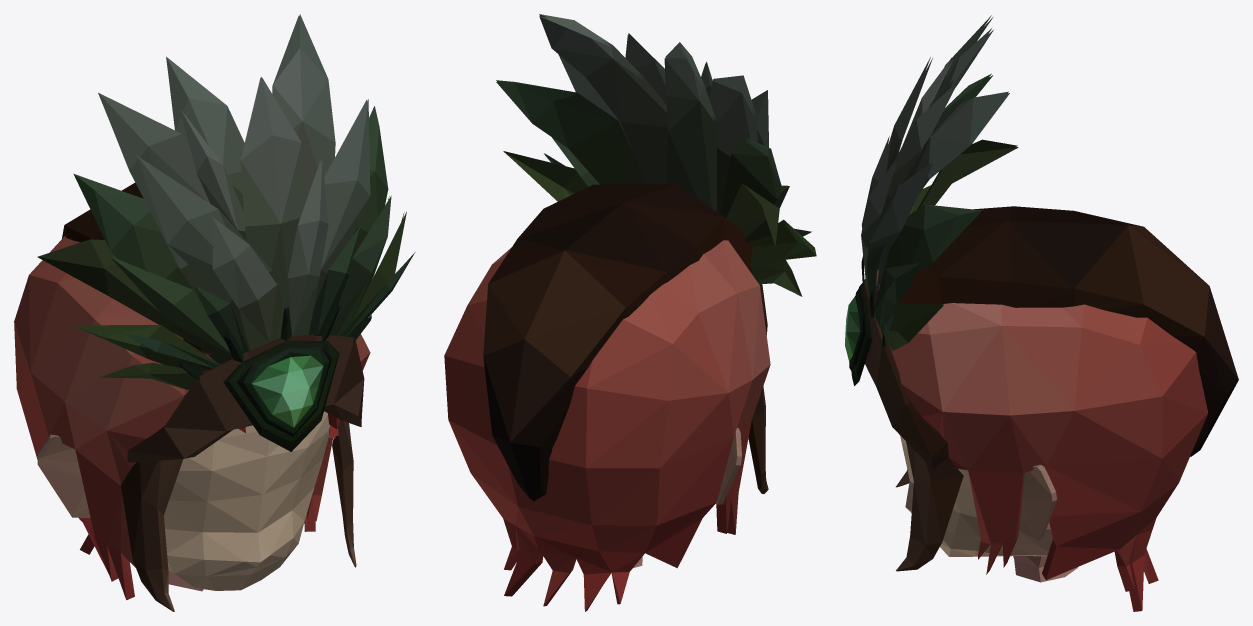
The model's file is helm_lightskin_standard_red_headress.fbx.
3 views of the same model, side by side, from view 1: azimuth 30°, elevation 25°; view 2: azimuth 150°, elevation 25°; view 3: azimuth 270°, elevation 25° (orthographic). The views are drawn at different scales.
Visible parts, largest first — view 1: helm_lightskin_standard_red_headress; view 2: helm_lightskin_standard_red_headress; view 3: helm_lightskin_standard_red_headress.
Boxes of the visible parts, x1,y1,x2,y2 form: helm_lightskin_standard_red_headress: (14, 14, 415, 611); helm_lightskin_standard_red_headress: (444, 14, 816, 611); helm_lightskin_standard_red_headress: (845, 15, 1238, 611).
Bounding box in the file's own units: 1.29 × 2.09 × 1.39.
